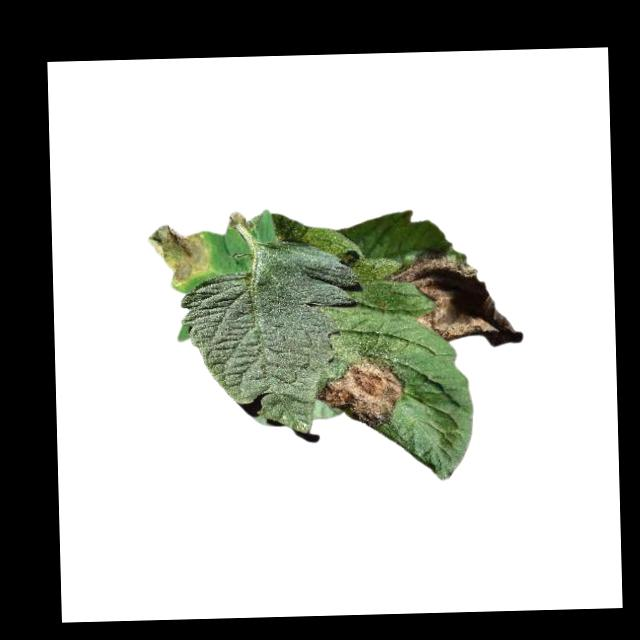Late_blight: (383, 248, 522, 349), (316, 354, 405, 431), (143, 223, 212, 289), (227, 208, 261, 231)
